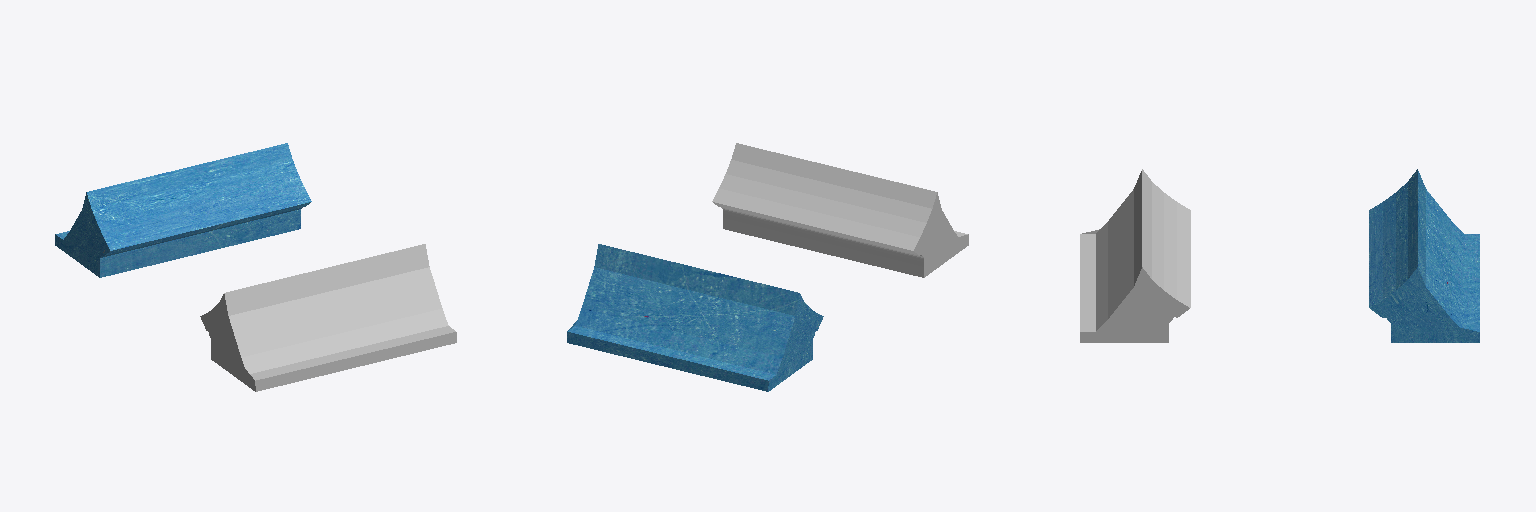
3 views of the same model, side by side, from view 1: azimuth 30°, elevation 25°; view 2: azimuth 150°, elevation 25°; view 3: azimuth 270°, elevation 25° (orthographic).
Parts seen in each view (by area): view 1: Cube.003_Cube.015, Cube.015_Cube.016; view 2: Cube.015_Cube.016, Cube.003_Cube.015; view 3: Cube.003_Cube.015, Cube.015_Cube.016.
Boxes of the visible parts, <box> form: Cube.003_Cube.015: <box>200,244,456,391</box>; Cube.015_Cube.016: <box>55,143,311,277</box>; Cube.015_Cube.016: <box>567,244,823,391</box>; Cube.003_Cube.015: <box>712,143,968,277</box>; Cube.003_Cube.015: <box>1080,169,1190,342</box>; Cube.015_Cube.016: <box>1369,169,1479,342</box>.
Size of the model in its own units: 0.0746 by 0.027 by 0.1287.
Materials: 2 (1 with a texture image).